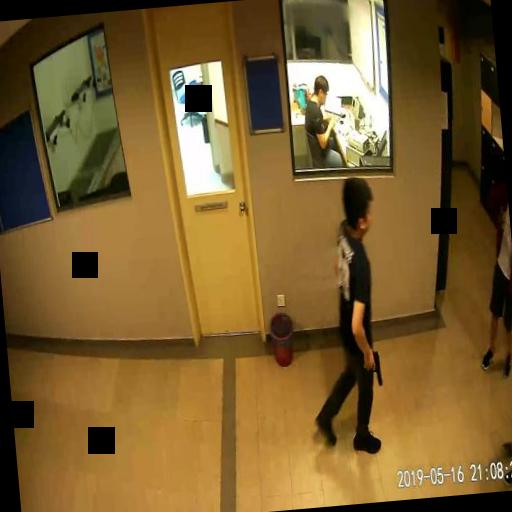Handgun: (364, 350, 382, 386)
